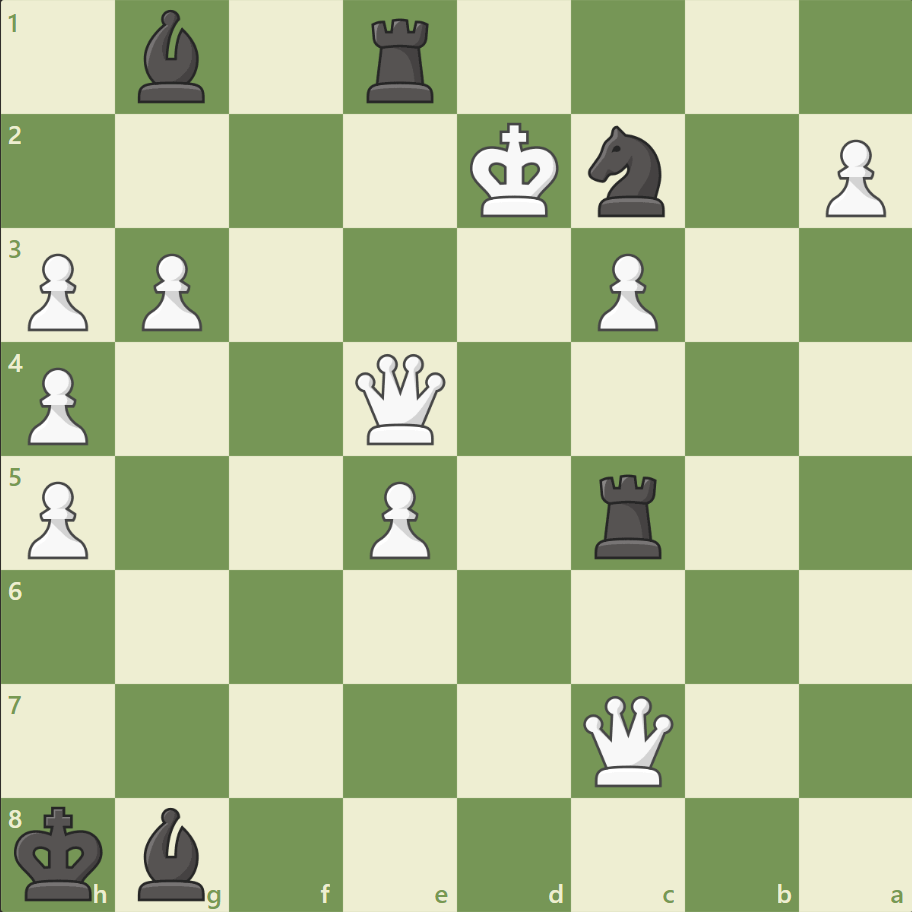K: (465, 117, 565, 225)
P: (20, 473, 95, 564), (20, 359, 95, 450), (133, 246, 208, 337), (20, 246, 95, 337), (361, 473, 435, 564), (588, 246, 662, 337), (815, 132, 889, 223)
Q: (351, 349, 450, 449), (578, 690, 677, 789)
b: (131, 801, 215, 904), (131, 6, 215, 109)
k: (11, 798, 111, 906)
n: (579, 121, 676, 223)
r: (587, 466, 670, 563), (360, 12, 442, 109)
